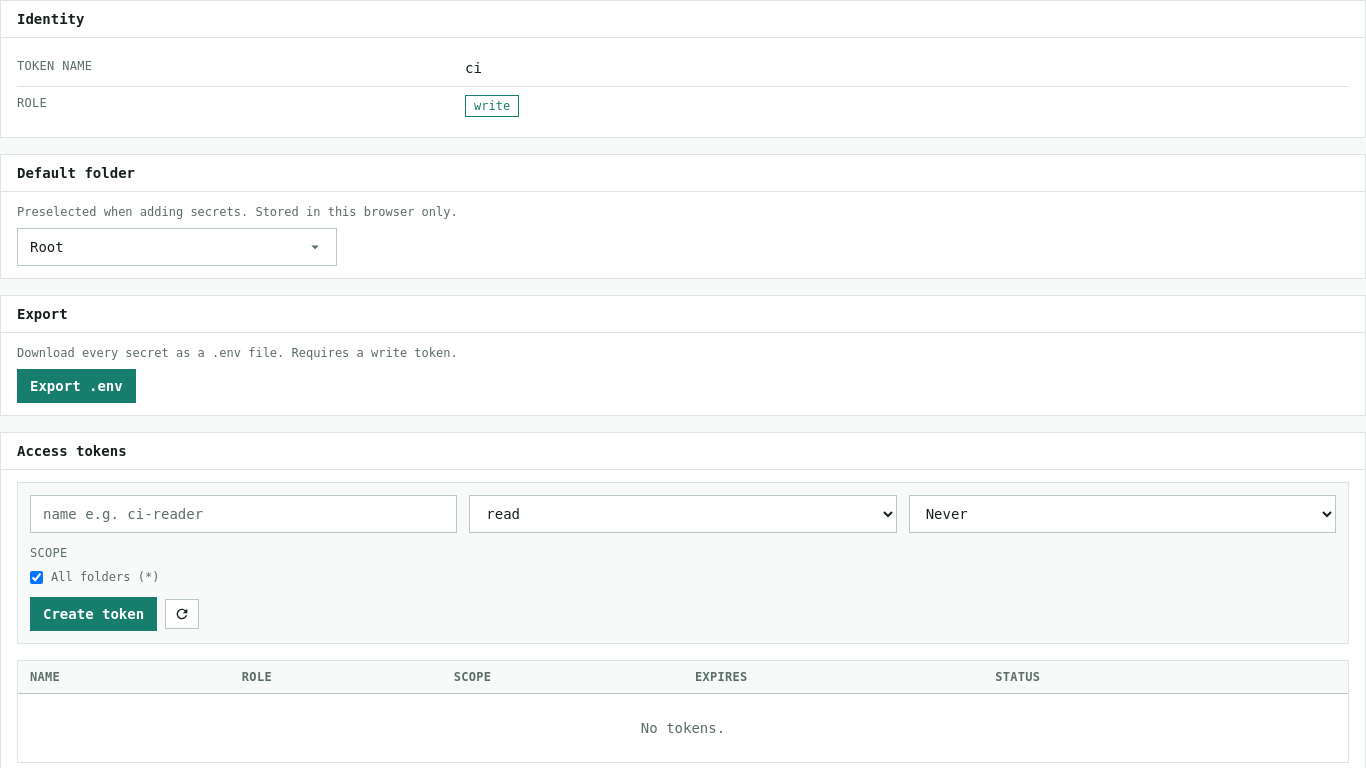
Test: Settings create-result modal scope display › shows the all-folders label when the server grants `*`
Type "ci-reader" into the field with placeholder "name e.g. ci-reader" at (244, 514), box [30, 495, 457, 533]
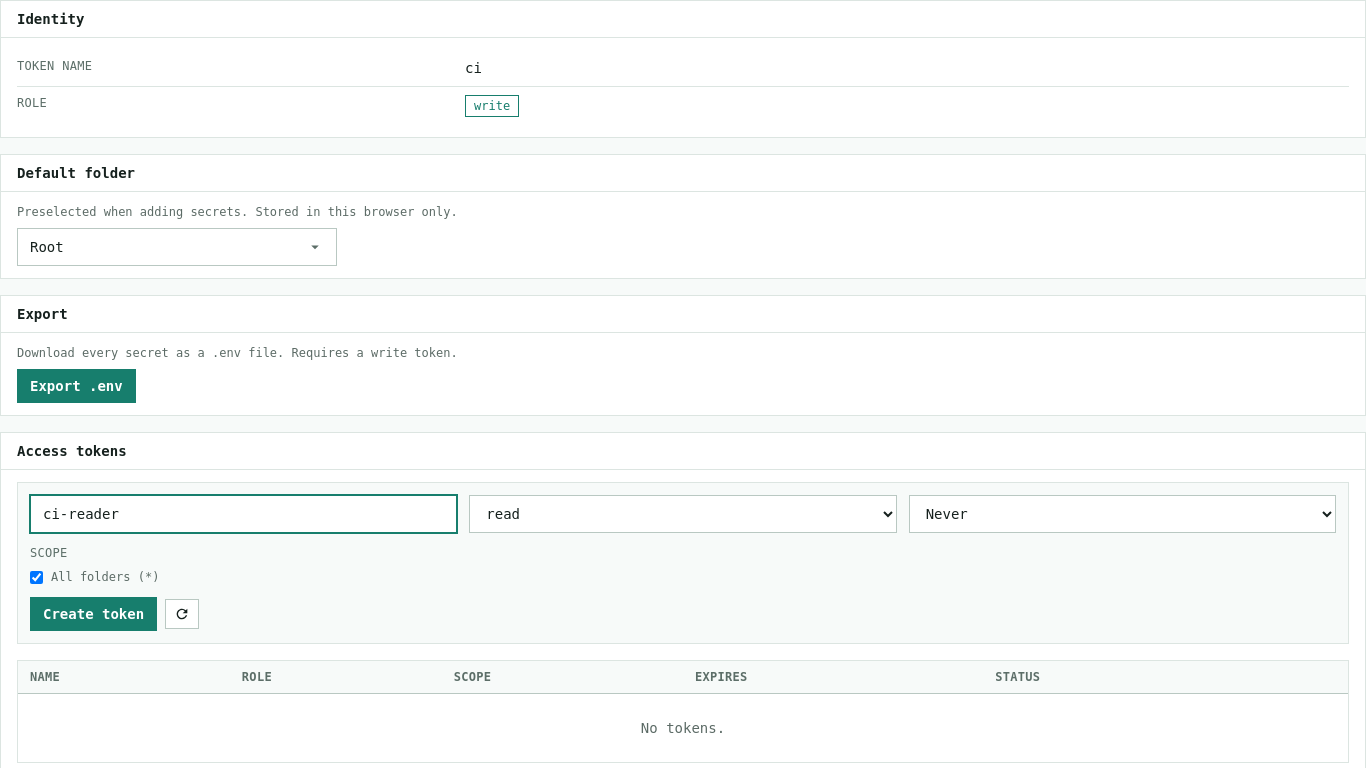
Click the button "Create token" at (94, 614), box [30, 597, 157, 631]
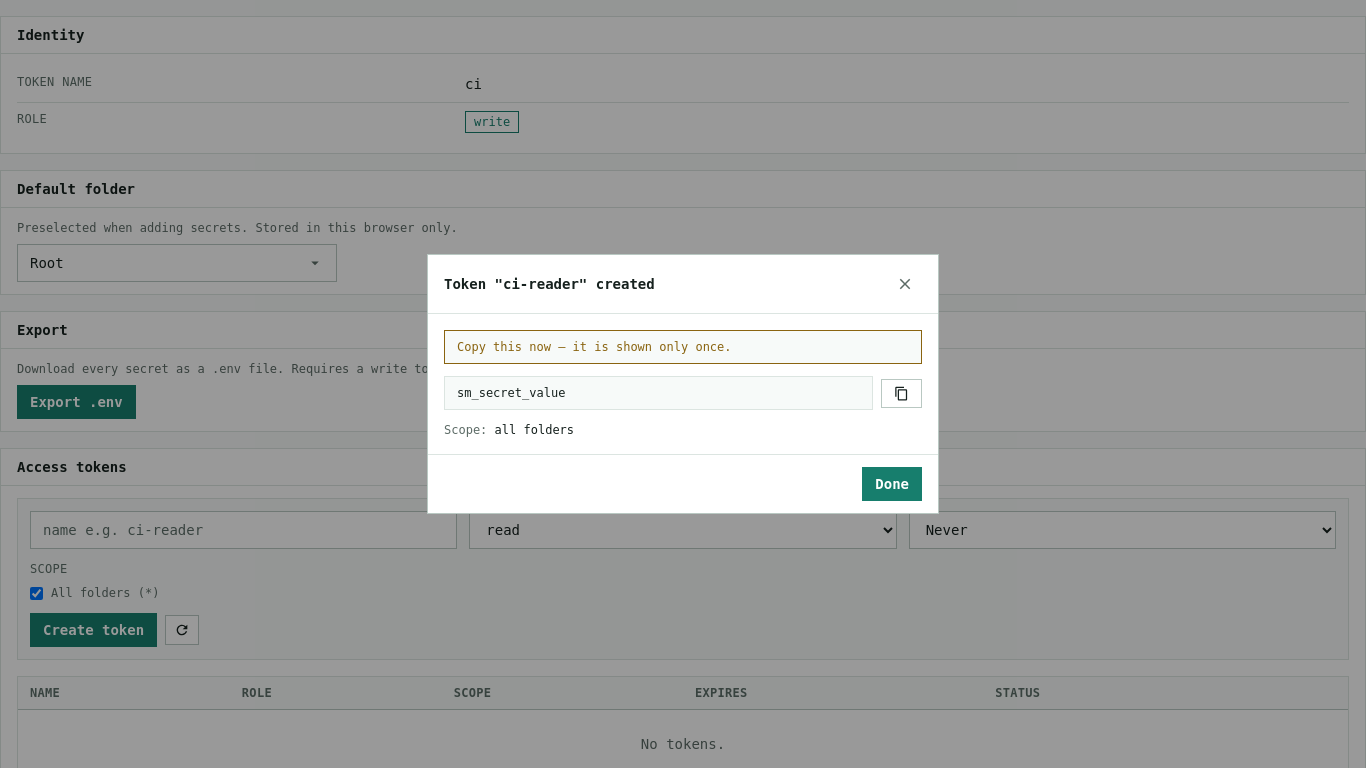
Now the dialog shows "Token \"ci-reader\" created", box [444, 276, 655, 292]
Now the dialog shows "Scope: all folders", box [427, 254, 939, 514]
